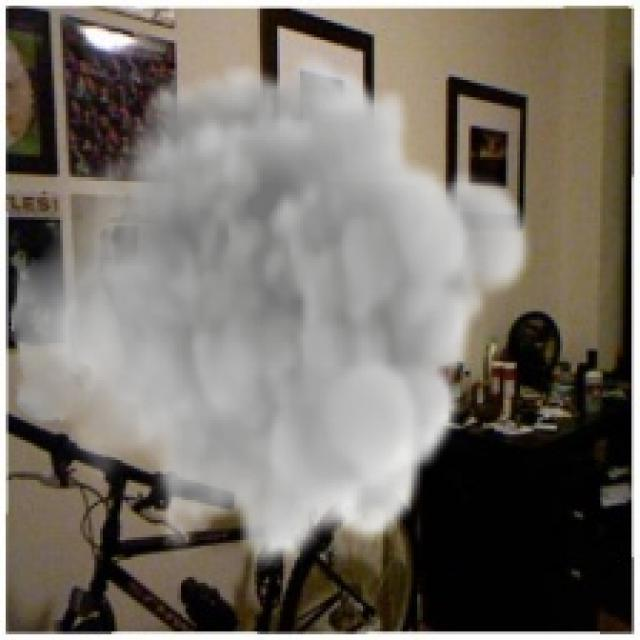smoke: (6, 51, 537, 572)
